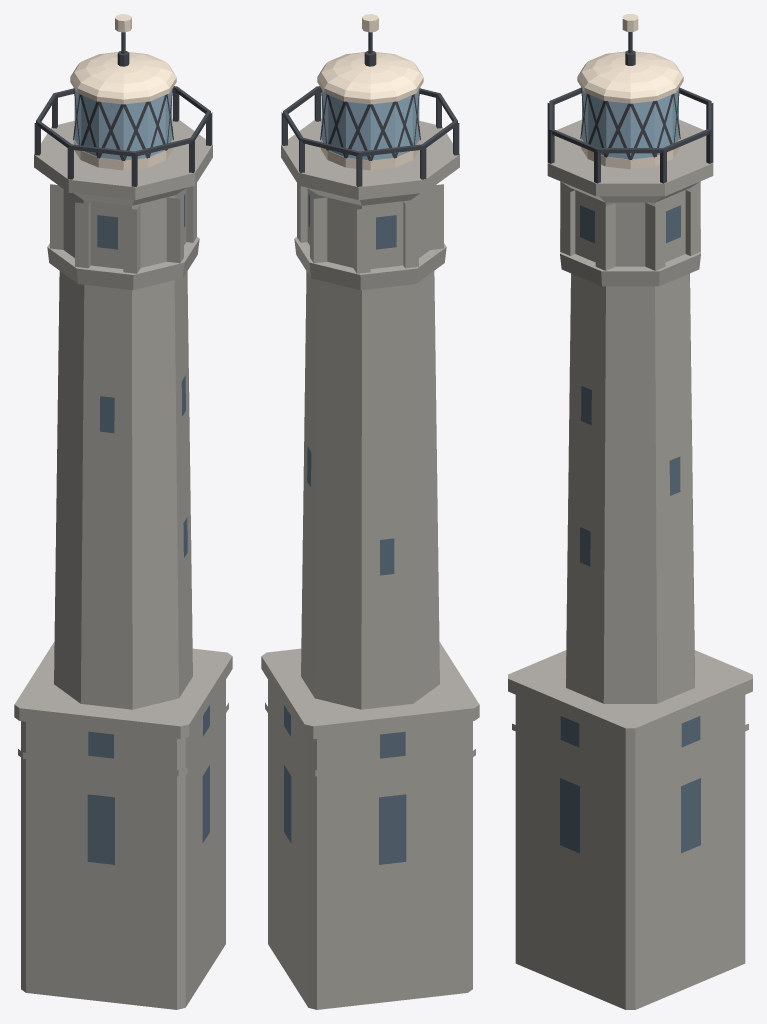
3 renders of one model, left to right at view 1: azimuth 30°, elevation 25°; view 2: azimuth 150°, elevation 25°; view 3: azimuth 270°, elevation 25°, orthographic.
Visible parts, largest first — view 1: alcatraz-island-lighthouse; view 2: alcatraz-island-lighthouse; view 3: alcatraz-island-lighthouse.
Part boxes in pixels (left/top/right/bottom): alcatraz-island-lighthouse: left=14, top=14, right=232, bottom=1009; alcatraz-island-lighthouse: left=261, top=14, right=479, bottom=1009; alcatraz-island-lighthouse: left=508, top=14, right=752, bottom=1009.
Bounding box in the file's own units: 6.93 × 29.5 × 6.93.
